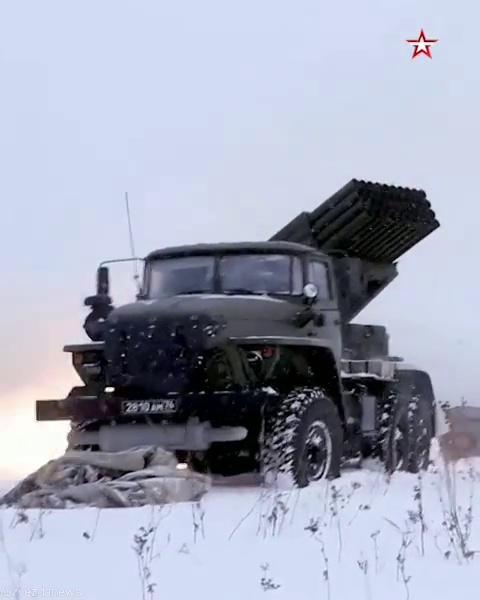MIL_SAM_TEL: (67, 168, 444, 493)
